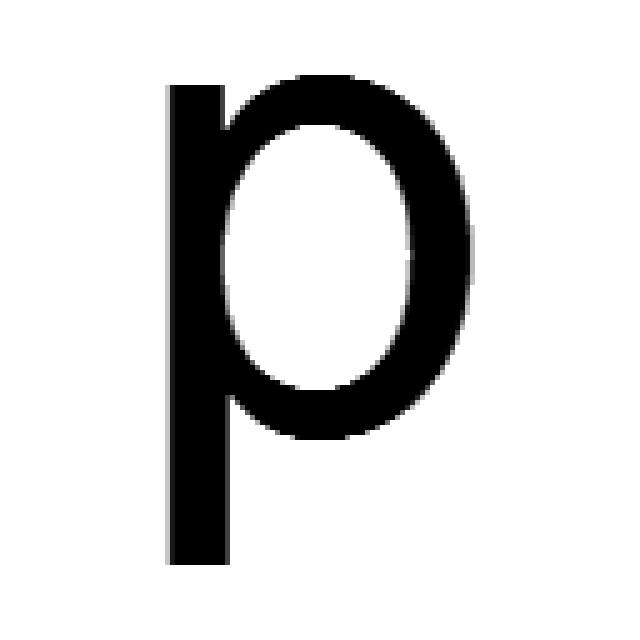P: (165, 80, 465, 570)
